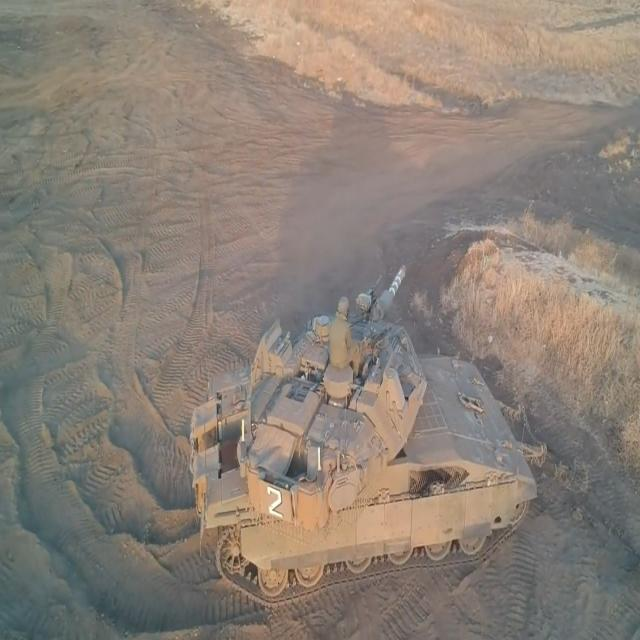tank: (176, 276, 556, 604)
